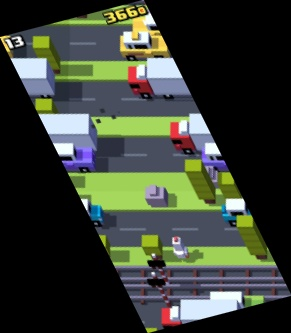car: (40, 142, 95, 173), (120, 31, 172, 59), (132, 12, 185, 36), (200, 142, 242, 171), (220, 199, 260, 227), (211, 291, 264, 311), (72, 198, 105, 229), (1, 36, 16, 59)
duck: (172, 238, 190, 260)
light off: (146, 273, 175, 310), (146, 252, 172, 288)
rail: (108, 264, 289, 284), (123, 282, 291, 303)
rock: (144, 185, 170, 207)
tree: (237, 217, 269, 261), (185, 158, 216, 202), (32, 35, 61, 73), (218, 172, 245, 204), (140, 234, 166, 261), (34, 98, 59, 125), (92, 235, 112, 258)
truck: (129, 57, 207, 100), (20, 114, 97, 155), (170, 113, 239, 154), (162, 300, 246, 330), (2, 58, 56, 100)
